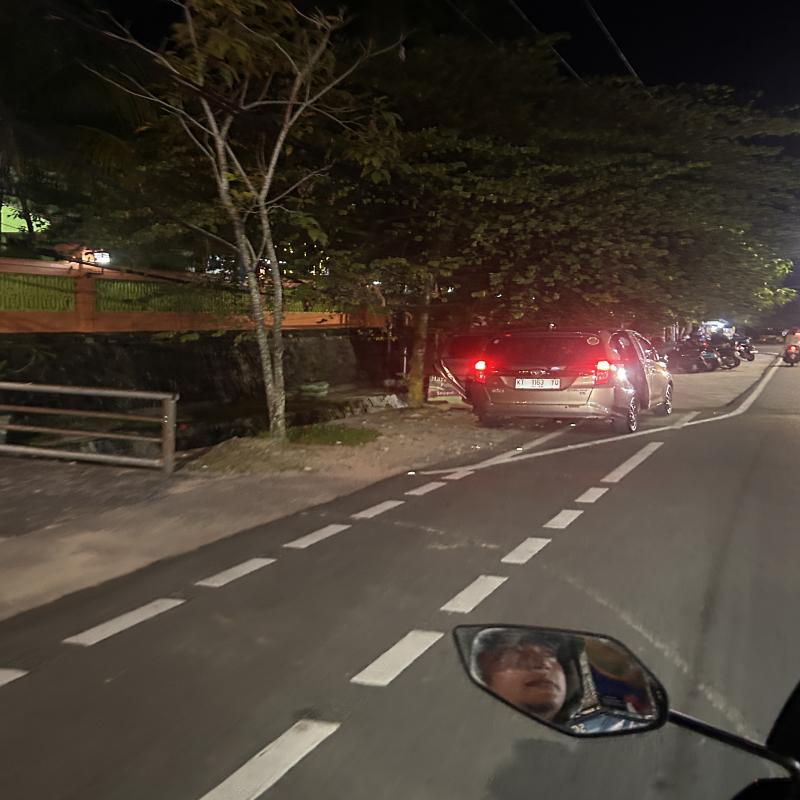license plate on a car: (515, 376, 564, 388)
